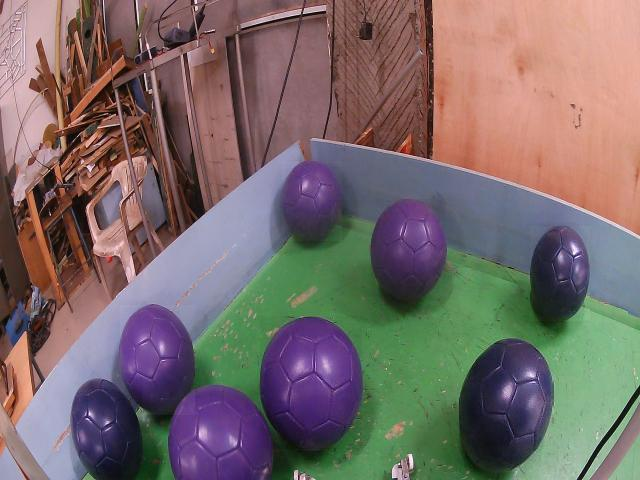jambhalya: (260, 316, 362, 449), (169, 385, 272, 480), (120, 305, 195, 415), (370, 200, 446, 301), (283, 161, 342, 241)
kaalyya: (460, 338, 553, 472), (70, 378, 142, 480), (530, 226, 590, 321)
